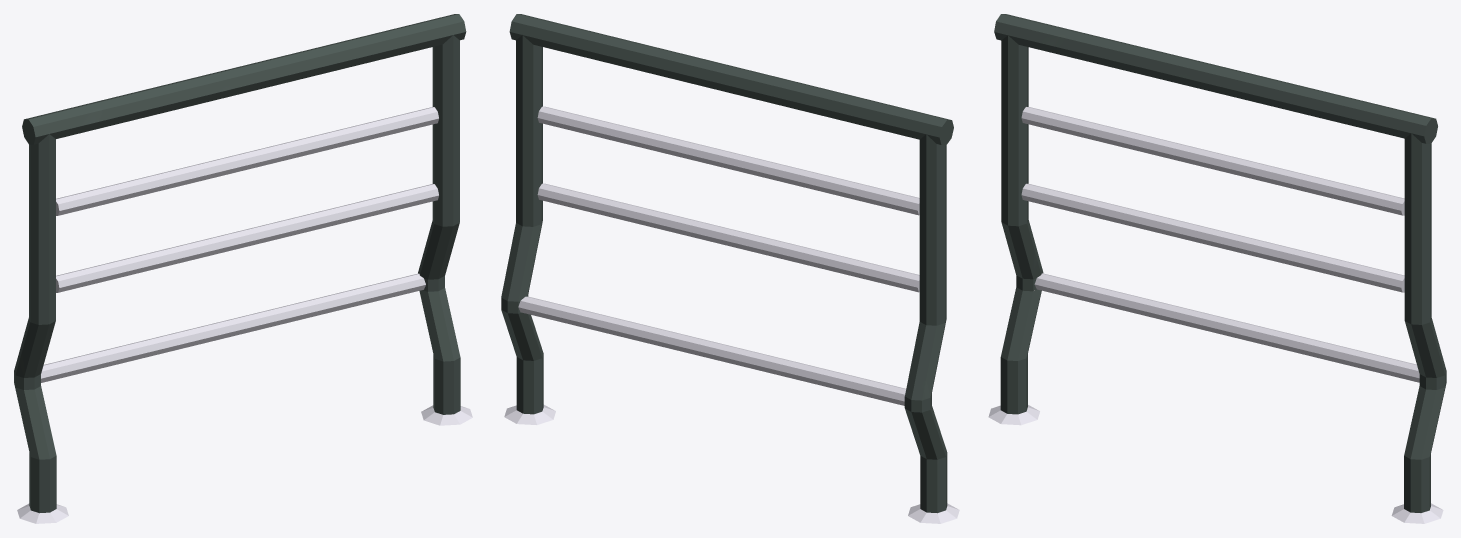
File: Base Fences.fbx
3 views of the same model, side by side, from view 1: azimuth 30°, elevation 25°; view 2: azimuth 150°, elevation 25°; view 3: azimuth 330°, elevation 25° (orthographic).
Parts seen in each view (by area): view 1: Base Fences; view 2: Base Fences; view 3: Base Fences.
Boxes of the visible parts, bbox=[...] form: Base Fences: bbox=[14, 14, 472, 523]; Base Fences: bbox=[501, 14, 959, 523]; Base Fences: bbox=[988, 14, 1446, 523].
Size of the model in its own units: 211 by 178 by 29.38.
